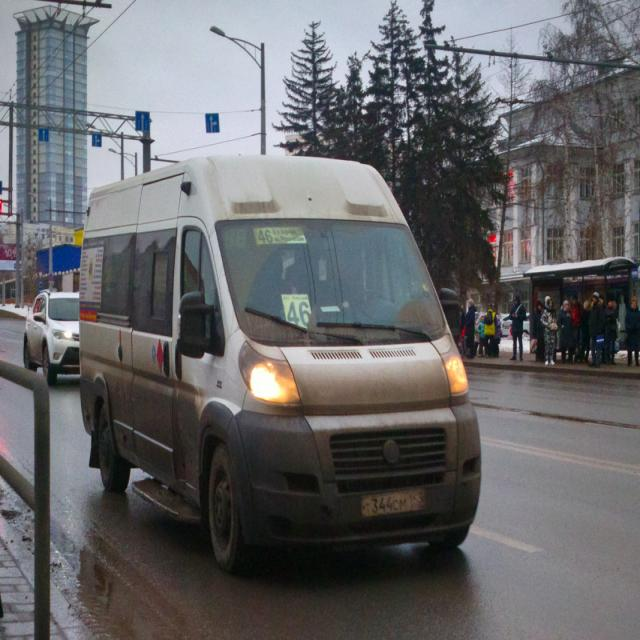number-of-bus: (286, 300, 315, 330), (257, 228, 275, 246)
